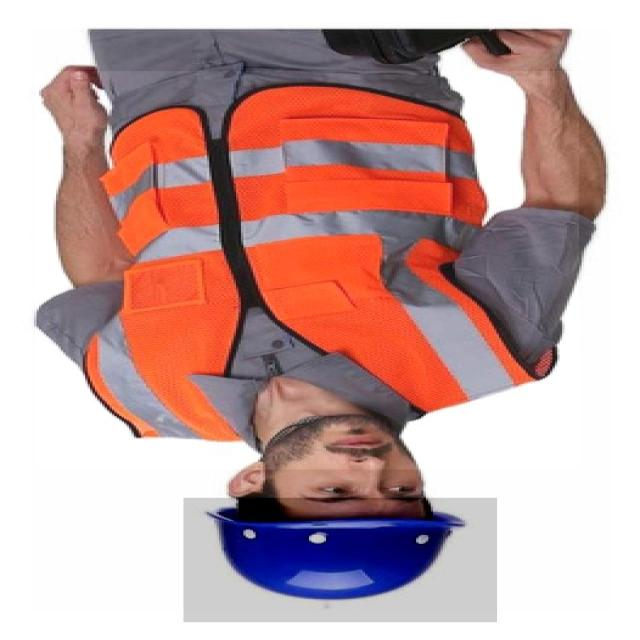Helmet: (183, 498, 497, 622)
Safety Vest: (35, 71, 579, 469)
